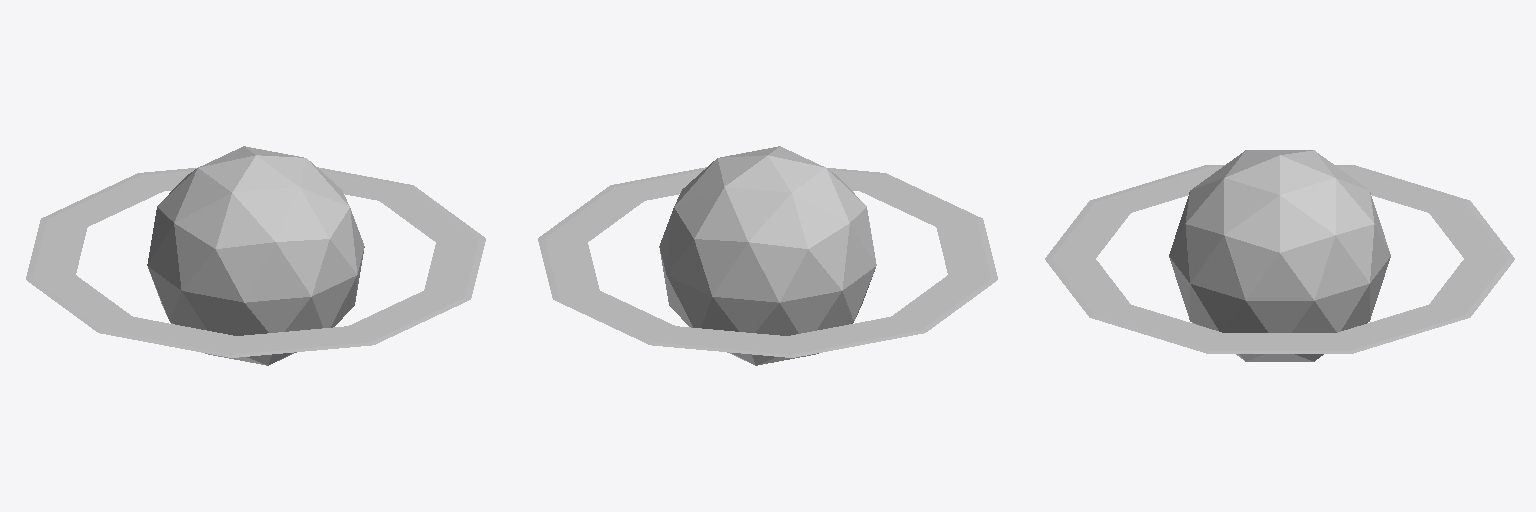
File: large_ring_planet.obj
3 renders of one model, left to right at view 1: azimuth 30°, elevation 25°; view 2: azimuth 150°, elevation 25°; view 3: azimuth 270°, elevation 25°, orthographic.
Parts seen in each view (by area): view 1: Icosphere, Cylinder; view 2: Icosphere, Cylinder; view 3: Icosphere, Cylinder.
Part boxes in pixels (bbox=[...]): Icosphere: bbox=[147, 146, 364, 365]; Cylinder: bbox=[26, 167, 485, 357]; Icosphere: bbox=[659, 146, 876, 365]; Cylinder: bbox=[538, 167, 997, 357]; Icosphere: bbox=[1169, 150, 1390, 361]; Cylinder: bbox=[1045, 165, 1514, 353].
Size of the model in its own units: 4.03 by 2 by 4.24.